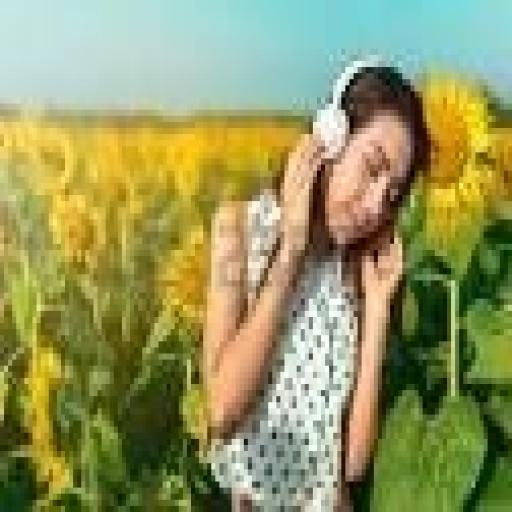listening_to_music: (199, 55, 431, 506)
